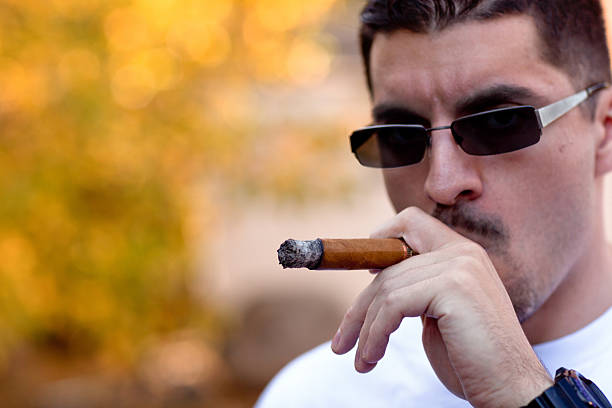cigarette: (277, 233, 412, 271)
